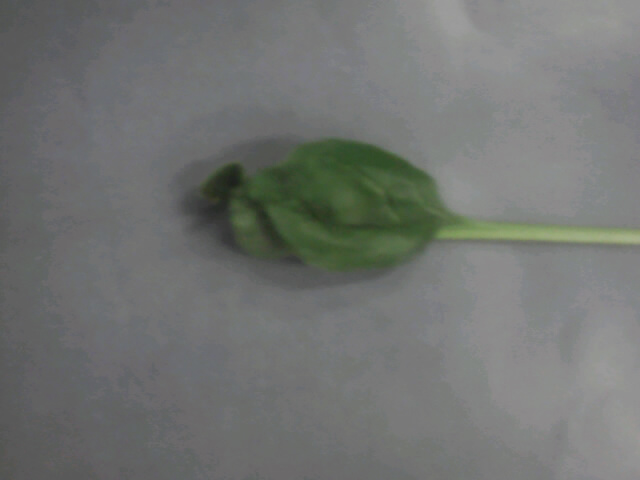yellow: (161, 108, 579, 296)
